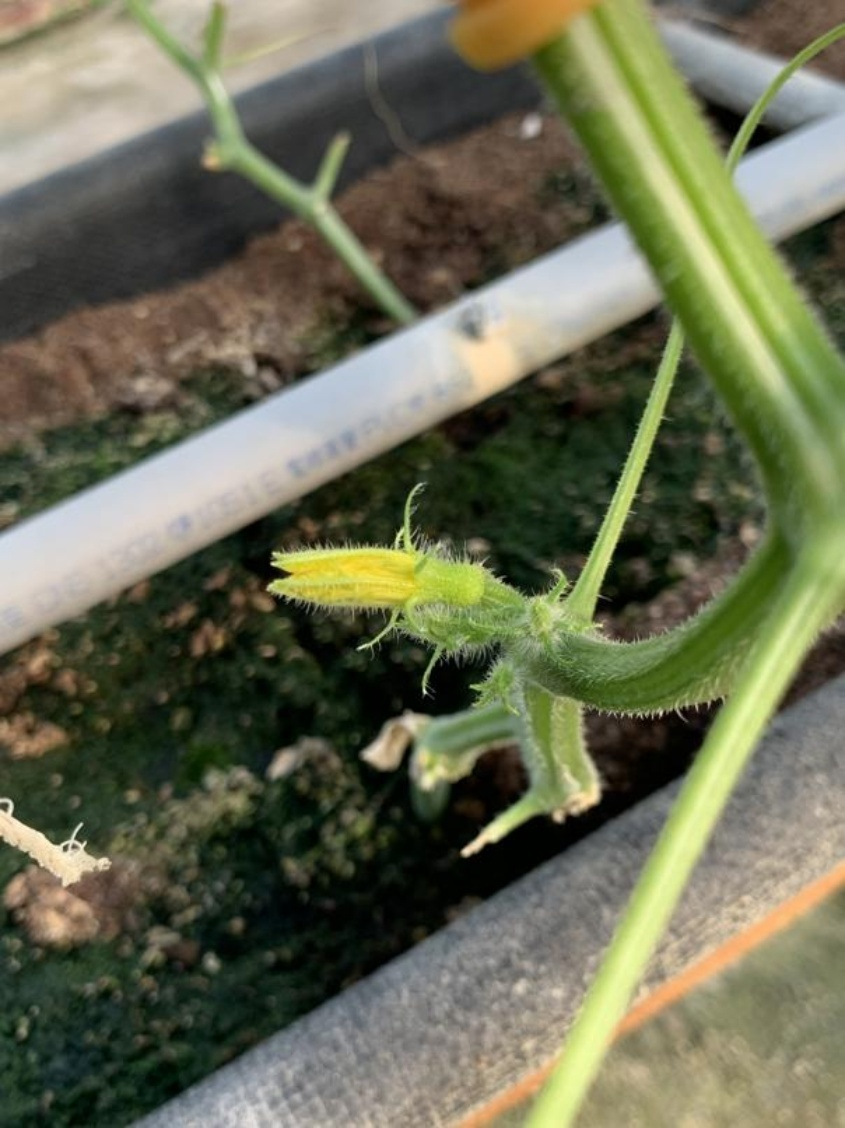bud: (266, 539, 525, 652)
